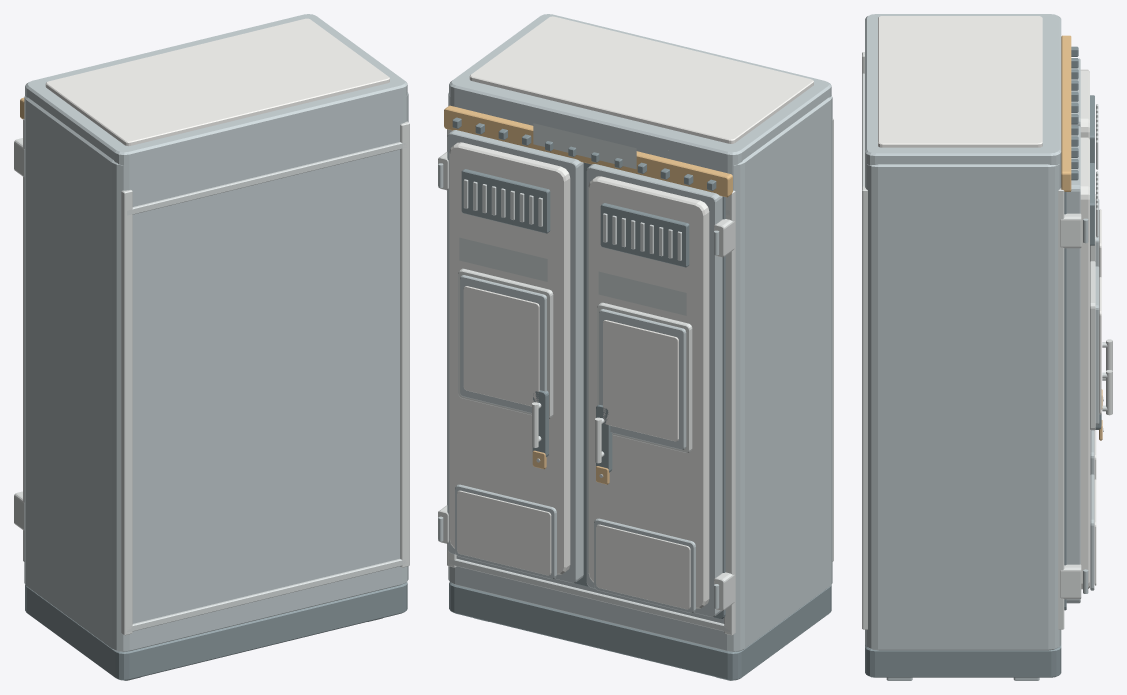
File: locker.glb
The picture shows the model from 3 angles, left to right: view 1: azimuth 30°, elevation 25°; view 2: azimuth 150°, elevation 25°; view 3: azimuth 270°, elevation 25°; orthographic projection.
Parts seen in each view (by area): view 1: static_graphite__graphite, static_cream__cream, static_deep__deep, static_satinsteel__satinsteel, static_steel__steel, Locker_Door_L__satinsteel; view 2: static_graphite__graphite, Locker_Door_L__bone, Locker_Door_R__bone, static_cream__cream, static_deep__deep, Locker_Door_R__graphite, Locker_Door_L__graphite, Locker_Door_R__cream, Locker_Door_L__cream, static_satinsteel__satinsteel, static_ochre__ochre, Locker_Door_L__deep (+9 smaller); view 3: static_graphite__graphite, static_cream__cream, static_deep__deep, Locker_Door_R__graphite, static_satinsteel__satinsteel, Locker_Door_R__bone, Locker_Door_R__satinsteel, static_ochre__ochre, Locker_Door_L__bone, Locker_Door_L__graphite, Locker_Door_R__deep, Locker_Door_R__cream.
Boxes of the visible parts, x1,y1,x2,y2 form: static_graphite__graphite: [24, 14, 408, 680]; static_cream__cream: [45, 18, 389, 146]; static_deep__deep: [25, 582, 407, 680]; static_satinsteel__satinsteel: [23, 118, 409, 635]; static_steel__steel: [127, 142, 407, 632]; Locker_Door_L__satinsteel: [14, 138, 24, 530]; static_graphite__graphite: [448, 14, 832, 680]; Locker_Door_L__bone: [588, 176, 709, 609]; Locker_Door_R__bone: [449, 142, 570, 575]; static_cream__cream: [469, 16, 813, 143]; static_deep__deep: [449, 117, 831, 680]; Locker_Door_R__graphite: [438, 130, 583, 583]; Locker_Door_L__graphite: [586, 164, 722, 617]; Locker_Door_R__cream: [463, 286, 539, 406]; Locker_Door_L__cream: [603, 320, 678, 441]; static_satinsteel__satinsteel: [447, 118, 833, 635]; static_ochre__ochre: [444, 105, 732, 197]; Locker_Door_L__deep: [596, 203, 689, 472]; static_graphite__graphite: [865, 14, 1061, 680]; static_cream__cream: [878, 16, 1042, 147]; static_deep__deep: [865, 46, 1078, 677]; Locker_Door_R__graphite: [1066, 126, 1099, 603]; static_satinsteel__satinsteel: [862, 52, 1064, 629]; Locker_Door_R__bone: [1080, 137, 1096, 589]; Locker_Door_R__satinsteel: [1060, 213, 1112, 599]; static_ochre__ochre: [1061, 35, 1071, 191]; Locker_Door_L__bone: [1080, 69, 1096, 479]; Locker_Door_L__graphite: [1071, 58, 1099, 474]; Locker_Door_R__deep: [1090, 163, 1101, 429]; Locker_Door_R__cream: [1099, 277, 1101, 414].
Bounding box in the file's own units: 1.17 × 2.06 × 0.868.
